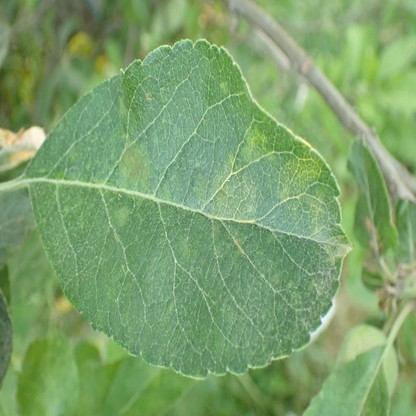powdery_mildew: (300, 236, 353, 330)
scab: (121, 147, 146, 187), (242, 128, 268, 160), (307, 191, 325, 221), (213, 178, 226, 207), (178, 236, 191, 258), (115, 205, 129, 225), (119, 96, 129, 118), (219, 82, 230, 97)
